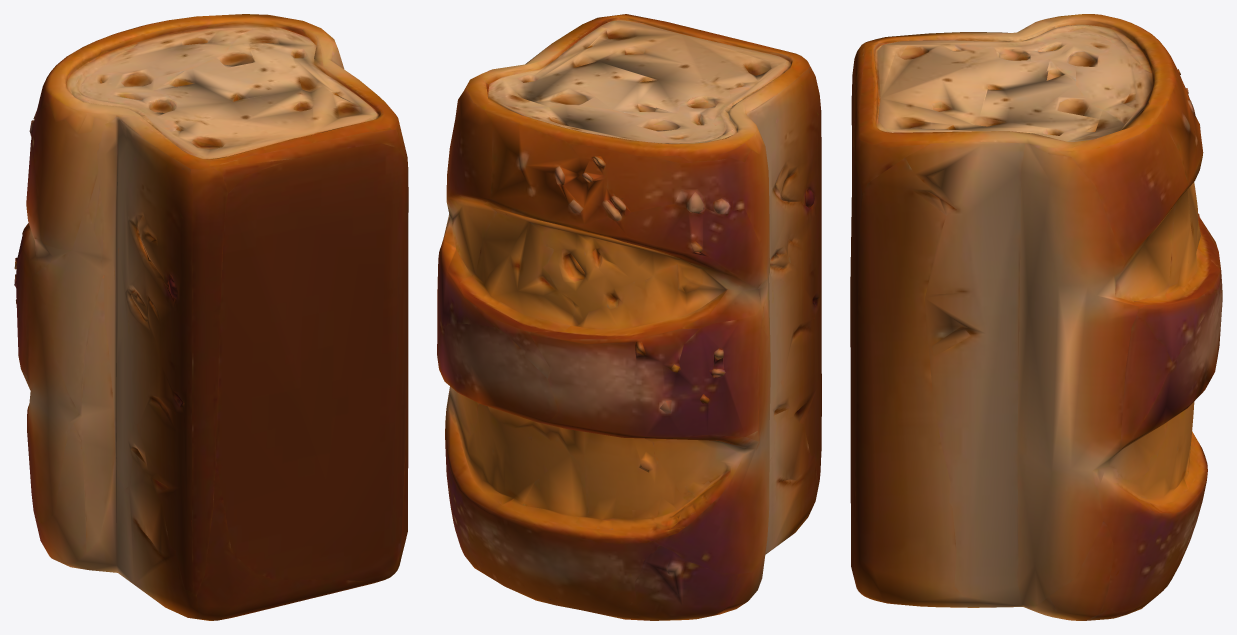
The picture shows the model from 3 angles, left to right: view 1: azimuth 30°, elevation 25°; view 2: azimuth 150°, elevation 25°; view 3: azimuth 270°, elevation 25°; orthographic projection. The views are drawn at different scales.
Visible parts, largest first — view 1: material; view 2: material; view 3: material.
Boxes of the visible parts, box(x1,y1,x2,y2) form: material: box(14, 14, 408, 620); material: box(437, 14, 821, 620); material: box(850, 14, 1222, 620).
Size of the model in its own units: 0.6859 by 1 by 0.6961.
1 material, 1 textured.
